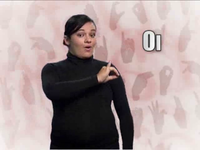oi: (96, 58, 125, 85)
